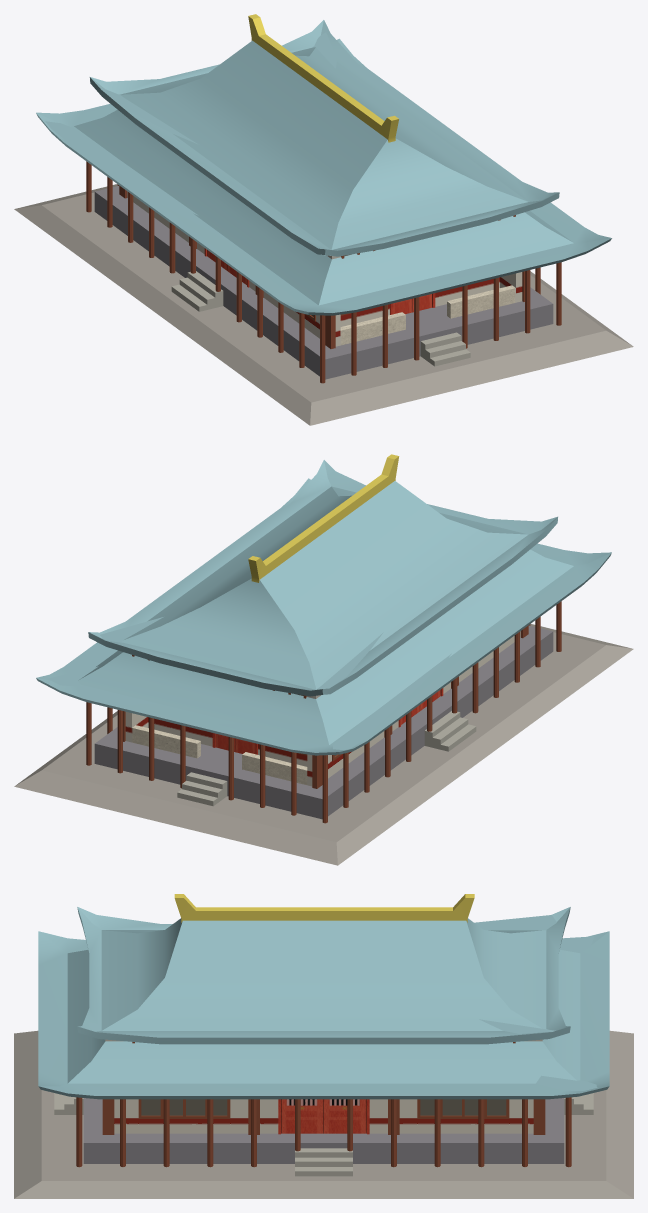
Rendered from Building1.fbx.
3 views of the same model, one above another, from view 1: azimuth 30°, elevation 25°; view 2: azimuth 150°, elevation 25°; view 3: azimuth 270°, elevation 25° (orthographic). The views are drawn at different scales.
Parts seen in each view (by area): view 1: B_Building; view 2: B_Building; view 3: B_Building.
Boxes of the visible parts, <box> form: B_Building: <box>14,14,633,425</box>; B_Building: <box>14,454,633,865</box>; B_Building: <box>14,894,633,1198</box>.
Size of the model in its own units: 13.44 by 8.34 by 21.28.
